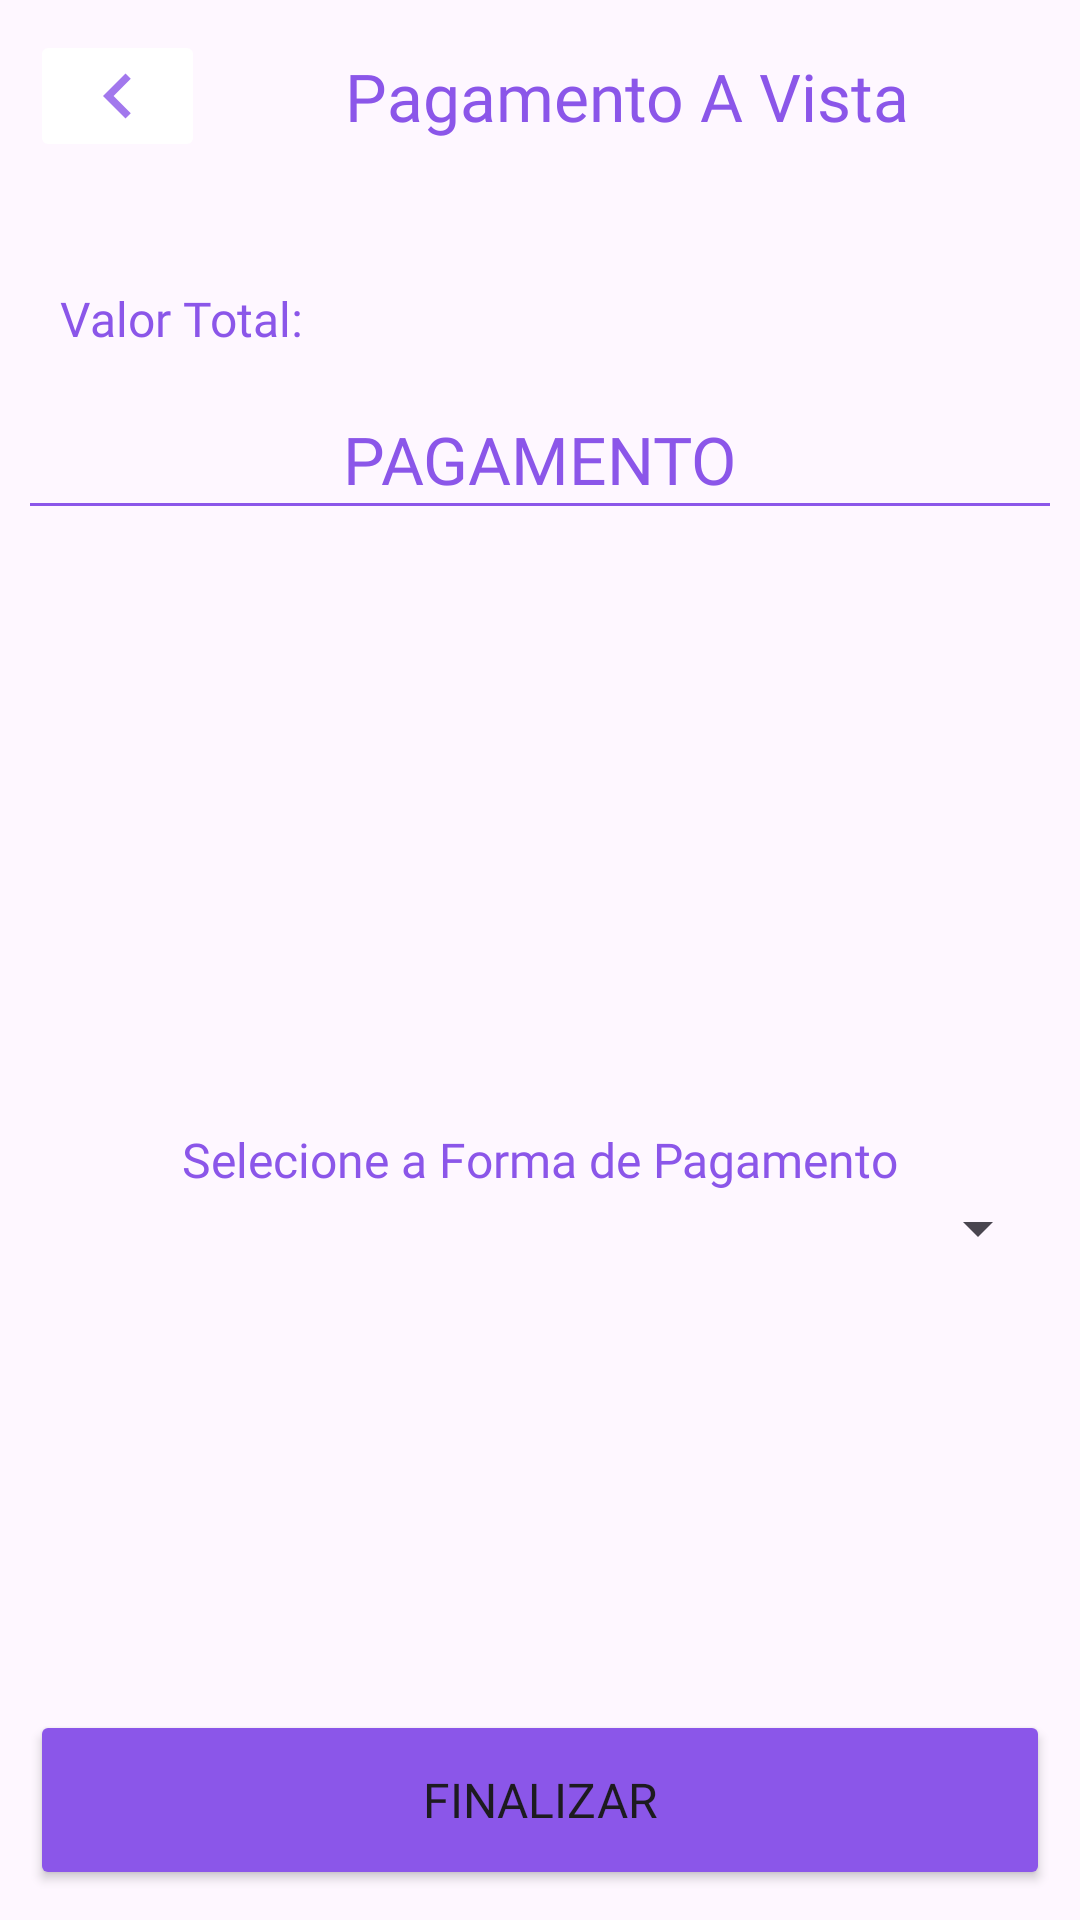

Where to tap for icons on this 1080 x 1920 app screen, as (x=x, y=y):
voltar roxo: (x=117, y=96)
